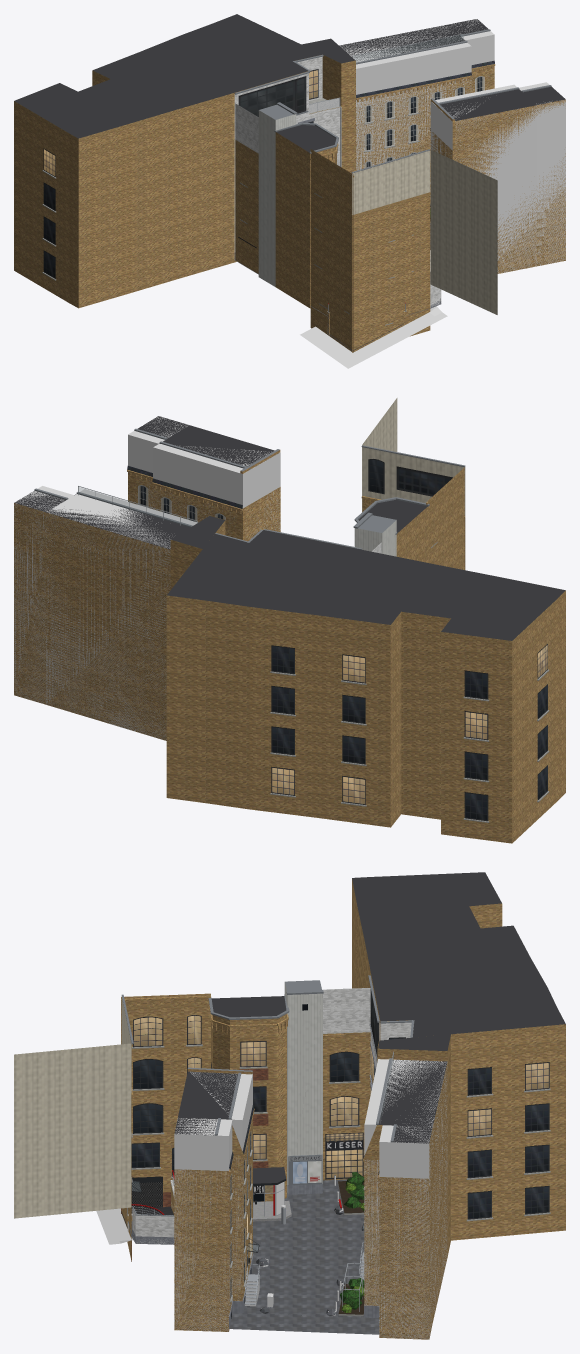
File: erft-haus-hof.glb
The picture shows the model from 3 angles, top to bottom: view 1: azimuth 30°, elevation 25°; view 2: azimuth 150°, elevation 25°; view 3: azimuth 270°, elevation 25°; orthographic projection. The views are drawn at different scales.
Visible parts, largest first — view 1: erft-haus-hof, erft-haus-hof_col, erft-haus-hof_cut; view 2: erft-haus-hof, erft-haus-hof_col; view 3: erft-haus-hof, erft-haus-hof_col, erft-haus-hof_cut.
Part boxes in pixels (<box>): erft-haus-hof: <box>14,14,565,352</box>; erft-haus-hof_col: <box>309,19,565,334</box>; erft-haus-hof_cut: <box>300,306,447,368</box>; erft-haus-hof: <box>14,398,565,843</box>; erft-haus-hof_col: <box>14,416,280,740</box>; erft-haus-hof: <box>14,872,565,1339</box>; erft-haus-hof_col: <box>127,1059,447,1339</box>; erft-haus-hof_cut: <box>96,1208,132,1244</box>.
Bounding box in the file's own units: 54.3 × 22.79 × 48.49.
60 materials, 51 textured.
